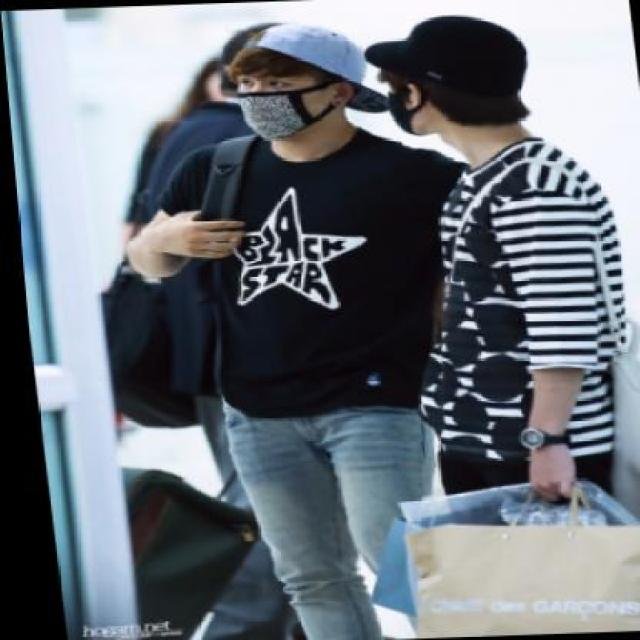hat: (361, 10, 539, 130), (228, 10, 400, 122)
